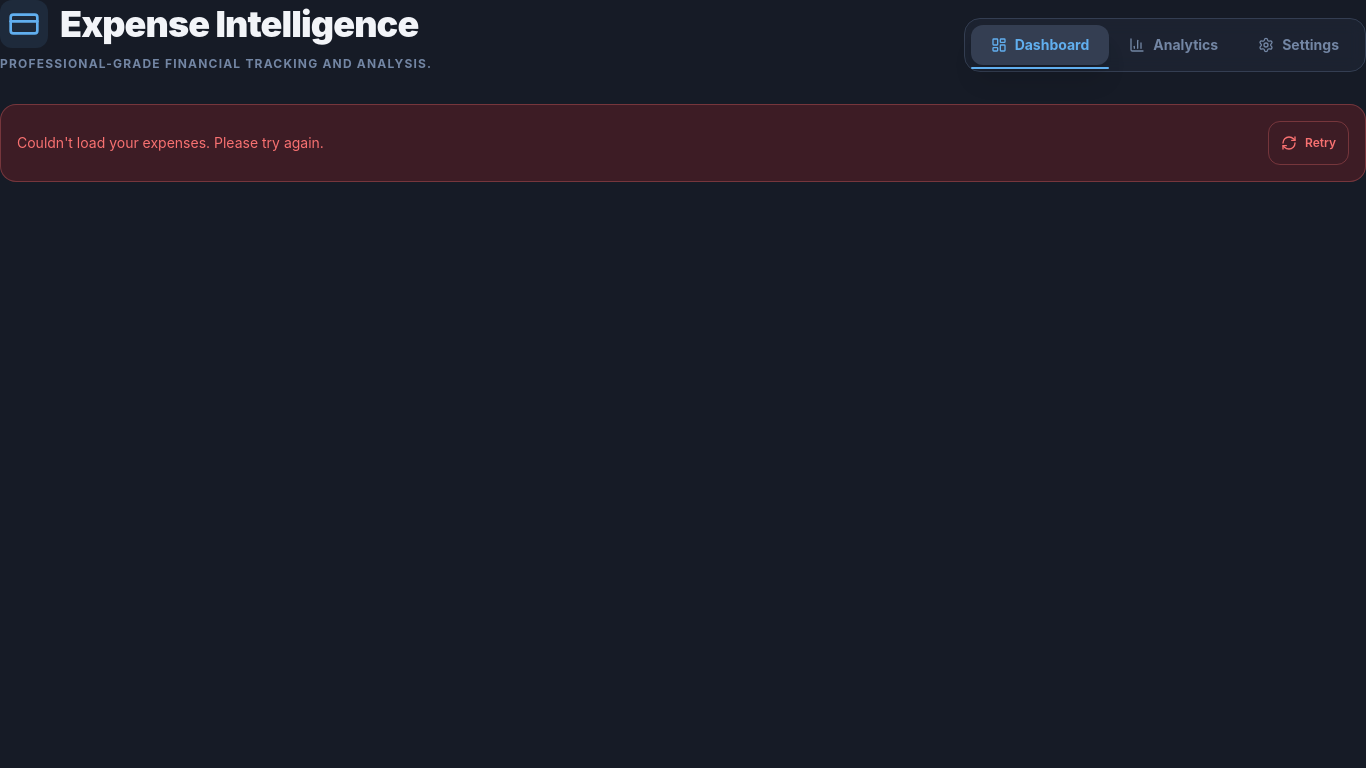
Test case: ExpenseAdminView › keeps settings available when expenses fail to load
Expected: the message "Couldn't load your expenses. Please try again. Retry" is shown, [0,104,1365,182]
Step 1. Click the tab "Settings" → (1299, 45), box [1238,25,1359,65]
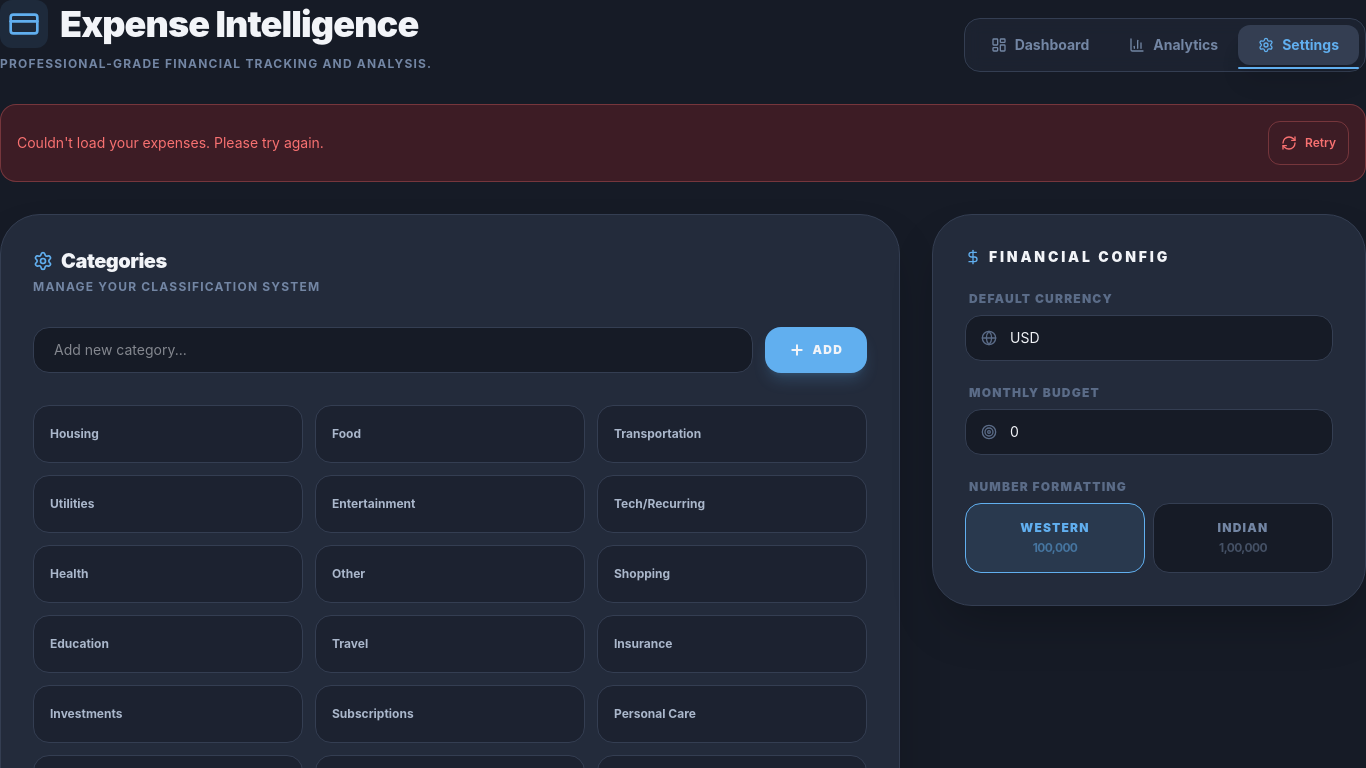
Now the heading "Categories" is shown, box [33,249,167,273]
